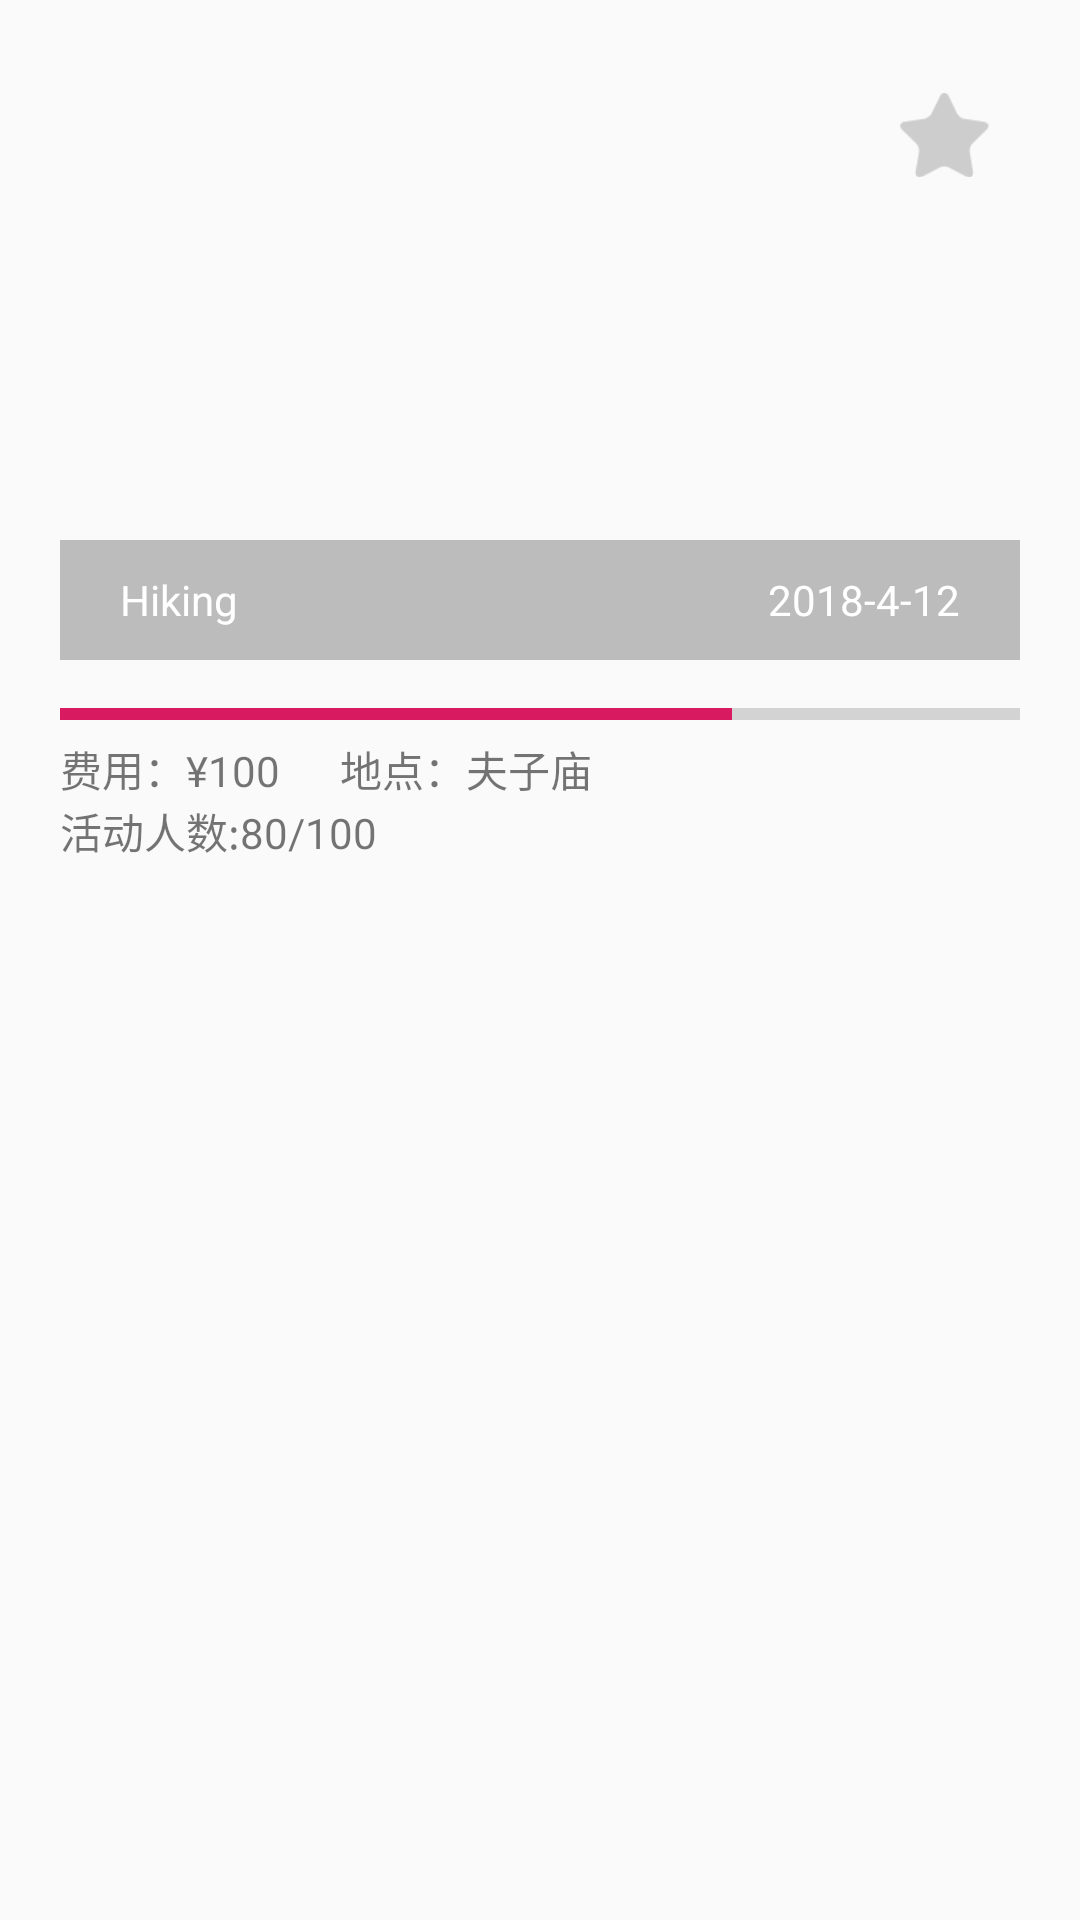

Locate icon controls on the screen. Image size 1080x1920, boxes as (x1, y1, x2, y2).
collect: (900, 93, 988, 177)
